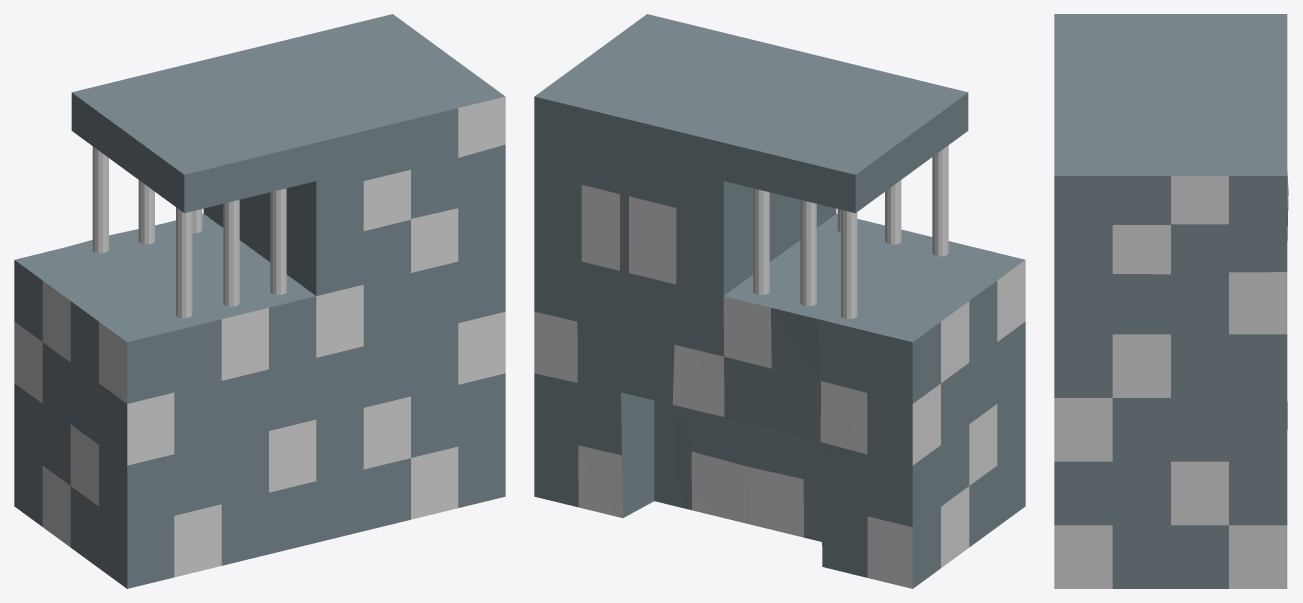
The model's file is WayneEnterprise.fbx.
3 renders of one model, left to right at view 1: azimuth 30°, elevation 25°; view 2: azimuth 150°, elevation 25°; view 3: azimuth 270°, elevation 25°, orthographic. The views are drawn at different scales.
Visible parts, largest first — view 1: mesh_1640094276, mesh_819036519, mesh_145732548, mesh_808295673, mesh_132963076, mesh_700896198; view 2: mesh_1640094276, mesh_132963076, mesh_819036519, mesh_1920957620, mesh_700896198, mesh_145732548; view 3: mesh_1640094276.
Boxes of the visible parts, x1,y1,x2,y2 form: mesh_1640094276: (14, 14, 505, 588); mesh_819036519: (176, 207, 192, 318); mesh_145732548: (223, 200, 239, 306); mesh_808295673: (270, 188, 286, 294); mesh_132963076: (92, 146, 108, 253); mesh_700896198: (138, 180, 154, 244); mesh_1640094276: (534, 14, 1025, 588); mesh_132963076: (841, 210, 857, 318); mesh_819036519: (932, 145, 948, 256); mesh_1920957620: (753, 188, 769, 294); mesh_700896198: (800, 200, 816, 306); mesh_145732548: (885, 180, 901, 244); mesh_1640094276: (1054, 14, 1288, 588).
Size of the model in its own units: 51.6 by 52.14 by 26.79.
